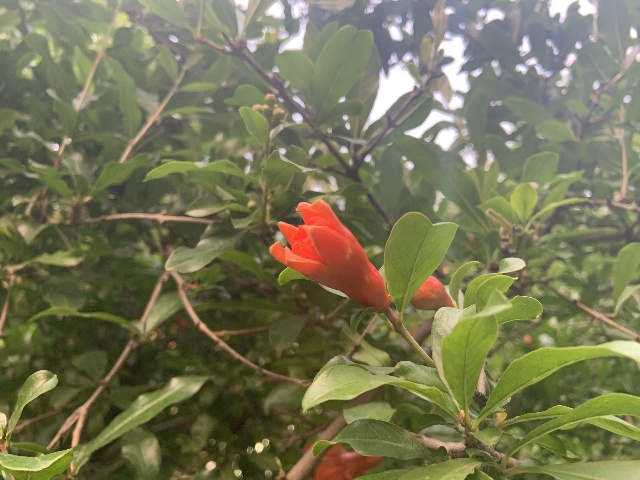bud: (412, 274, 454, 310)
flower: (269, 197, 391, 309), (304, 442, 386, 480)
